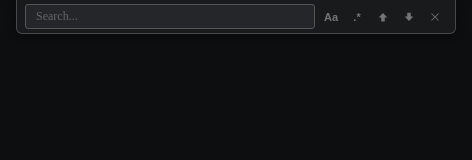
SearchBar › shows match count when query exists and totalMatches > 0
The image size is (472, 160).
Type a query to make it non-empty
In the field with class "search-input": (136, 16) [32, 5, 240, 28], type "test"
Wait 150 ms
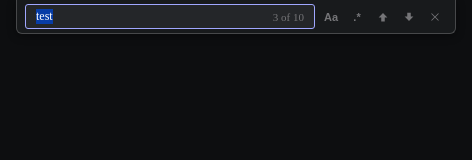
Now the text "3 of 10" is shown, box [273, 10, 304, 22]
